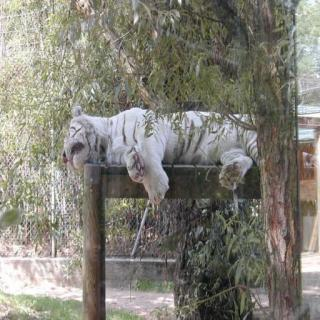Tiger: (56, 96, 282, 209)
